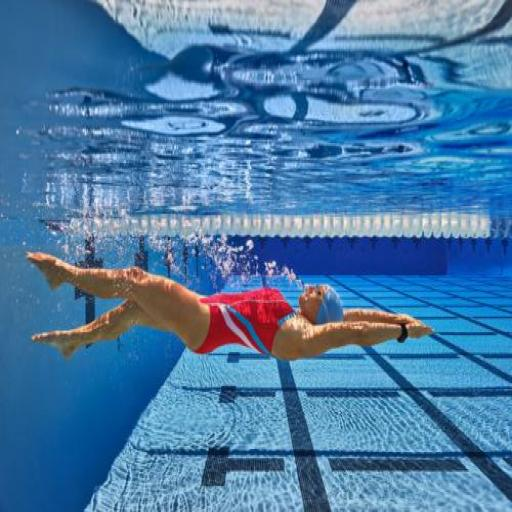swimming: (24, 248, 435, 364)
